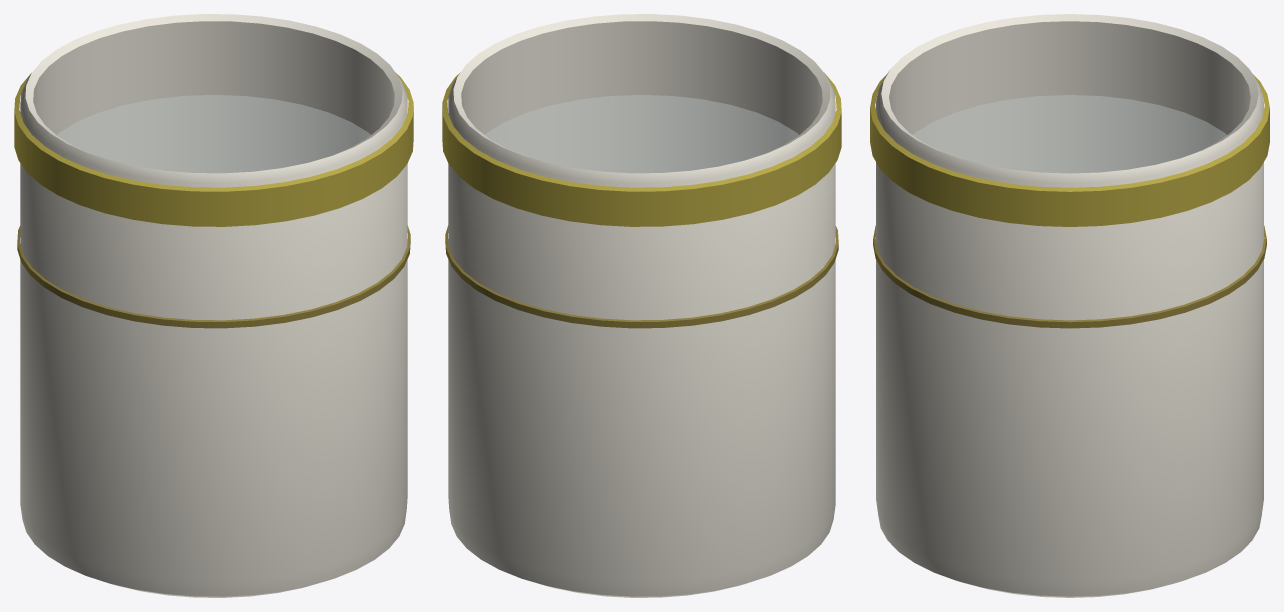
The model's file is jar.glb.
3 views of the same model, side by side, from view 1: azimuth 30°, elevation 25°; view 2: azimuth 150°, elevation 25°; view 3: azimuth 270°, elevation 25° (orthographic).
Visible parts, largest first — view 1: Jar_Glass, Jar_Water_Mesh, Jar_RimRing, Jar_CapRing; view 2: Jar_Glass, Jar_Water_Mesh, Jar_RimRing, Jar_CapRing; view 3: Jar_Glass, Jar_Water_Mesh, Jar_RimRing, Jar_CapRing.
Boxes of the visible parts, x1,y1,x2,y2 form: Jar_Glass: [20, 14, 407, 597]; Jar_Water_Mesh: [57, 95, 370, 172]; Jar_RimRing: [14, 72, 413, 226]; Jar_CapRing: [17, 225, 410, 328]; Jar_Glass: [448, 14, 835, 597]; Jar_Water_Mesh: [485, 95, 798, 172]; Jar_RimRing: [442, 72, 841, 226]; Jar_CapRing: [445, 225, 838, 328]; Jar_Glass: [876, 14, 1263, 597]; Jar_Water_Mesh: [913, 95, 1226, 173]; Jar_RimRing: [870, 75, 1269, 226]; Jar_CapRing: [873, 225, 1266, 328].
Size of the model in its own units: 0.0928 by 0.11 by 0.0928.
